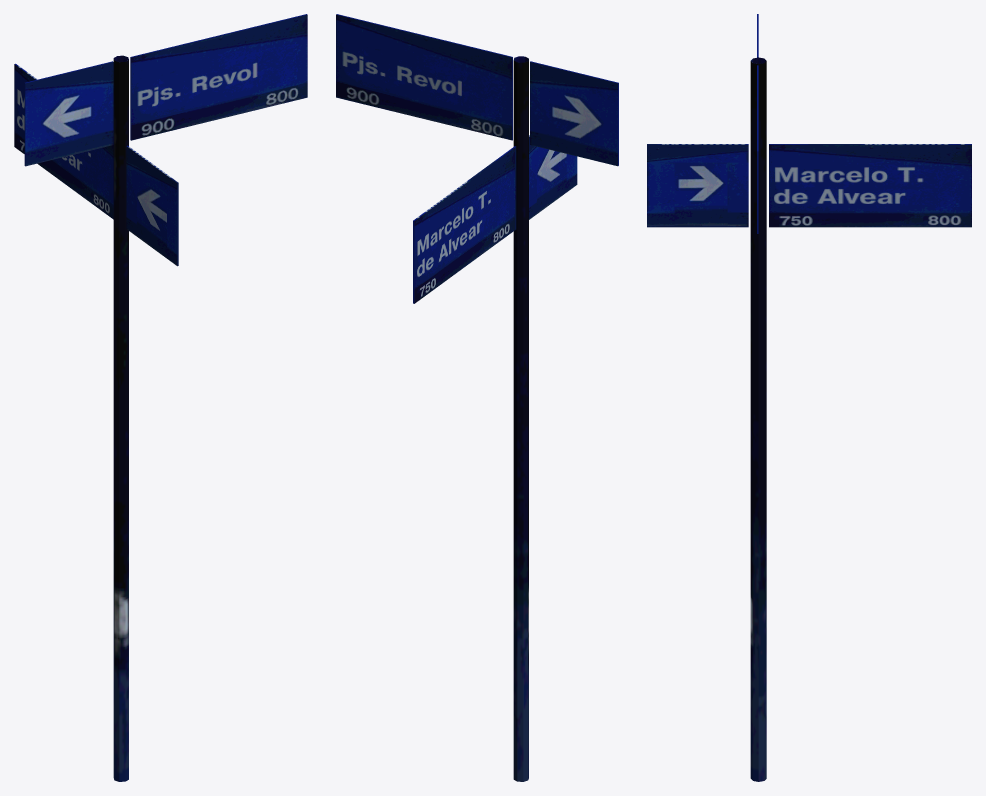
Rendered from Pjs Revol_esq_Marcelo T.fbx.
The picture shows the model from 3 angles, left to right: view 1: azimuth 30°, elevation 25°; view 2: azimuth 150°, elevation 25°; view 3: azimuth 270°, elevation 25°; orthographic projection.
Parts seen in each view (by area): view 1: Pjs.Revol_esq_Marcelo T.; view 2: Pjs.Revol_esq_Marcelo T.; view 3: Pjs.Revol_esq_Marcelo T..
Part boxes in pixels (left/top/right/bottom): Pjs.Revol_esq_Marcelo T.: left=14, top=14, right=307, bottom=781; Pjs.Revol_esq_Marcelo T.: left=336, top=14, right=618, bottom=781; Pjs.Revol_esq_Marcelo T.: left=647, top=14, right=971, bottom=781.
Bounding box in the file's own units: 3.2 × 7.8 × 3.2.
